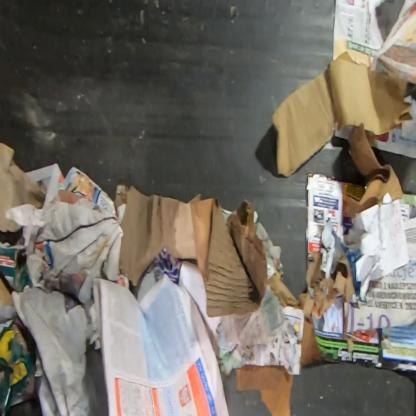cardboard: (270, 51, 414, 178), (190, 197, 302, 317), (114, 184, 202, 288), (343, 122, 403, 218), (0, 142, 47, 233), (0, 319, 36, 415), (306, 249, 356, 318), (234, 363, 295, 415), (0, 240, 34, 292), (300, 314, 324, 367), (0, 276, 14, 306)
